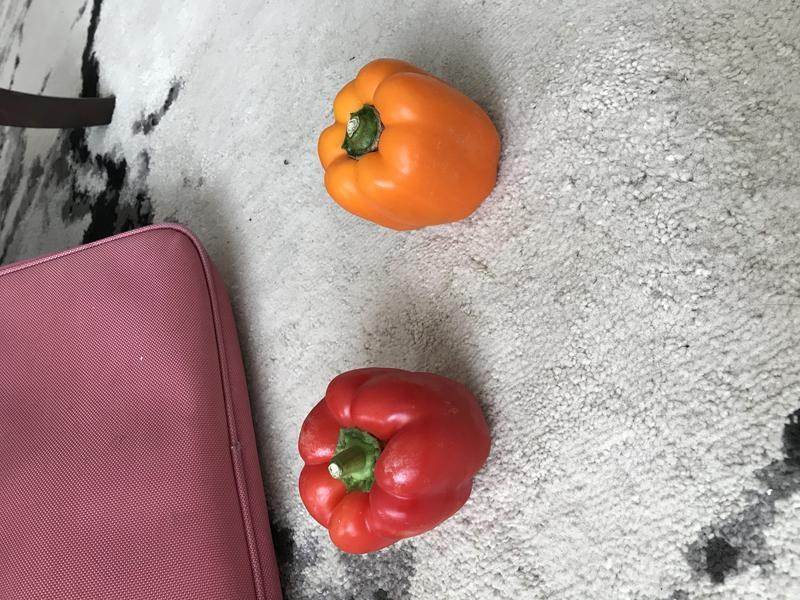orange_pepper: (311, 53, 512, 237)
red_pepper: (293, 358, 498, 560)
